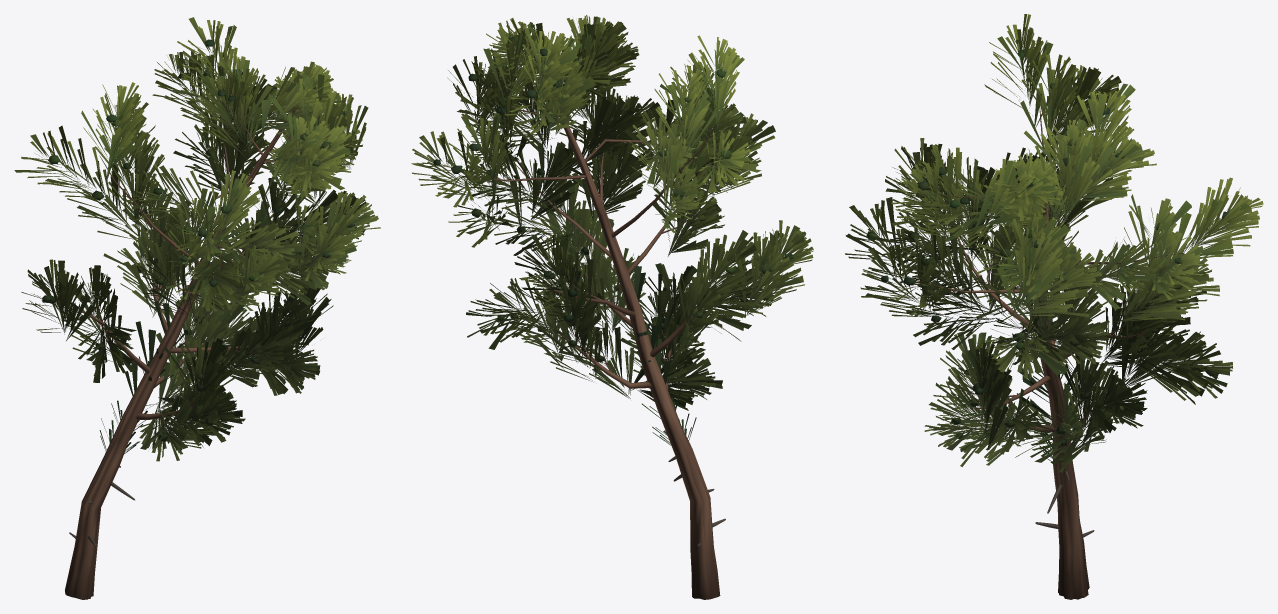
The model's file is pitch-pine.glb.
The picture shows the model from 3 angles, left to right: view 1: azimuth 30°, elevation 25°; view 2: azimuth 150°, elevation 25°; view 3: azimuth 270°, elevation 25°; orthographic projection. The views are drawn at different scales.
Parts seen in each view (by area): view 1: pitch-pine, pitch-pine-lo; view 2: pitch-pine, pitch-pine-lo; view 3: pitch-pine, pitch-pine-lo.
Boxes of the visible parts, bbox=[...] form: pitch-pine: bbox=[21, 20, 380, 599]; pitch-pine-lo: bbox=[14, 17, 370, 599]; pitch-pine: bbox=[411, 15, 813, 599]; pitch-pine-lo: bbox=[417, 16, 806, 599]; pitch-pine: bbox=[845, 14, 1263, 599]; pitch-pine-lo: bbox=[846, 36, 1251, 599].
Bounding box in the file's own units: 8.82 × 12.82 × 8.32.
